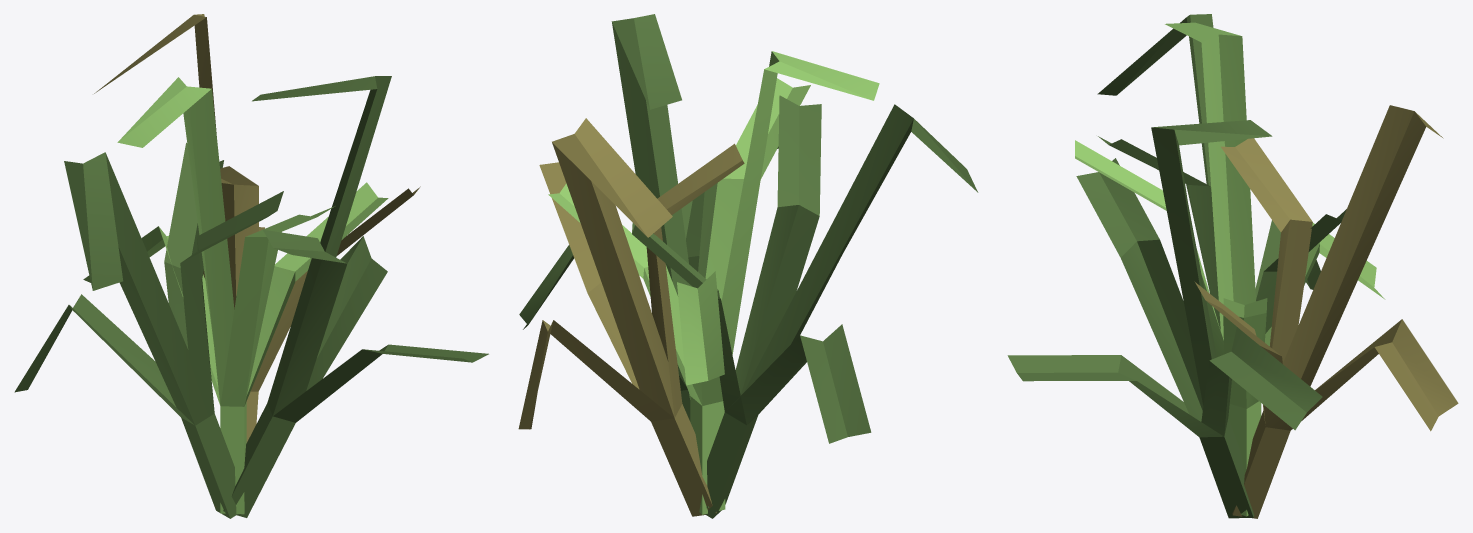
The model's file is Grass.glb.
3 renders of one model, left to right at view 1: azimuth 30°, elevation 25°; view 2: azimuth 150°, elevation 25°; view 3: azimuth 270°, elevation 25°, orthographic.
Visible parts, largest first — view 1: Grass; view 2: Grass; view 3: Grass.
Part boxes in pixels (x1,y1,x2,y2): Grass: [14, 14, 488, 518]; Grass: [518, 14, 978, 518]; Grass: [1007, 14, 1458, 518].
Bounding box in the file's own units: 0.52 × 0.5892 × 0.533.
